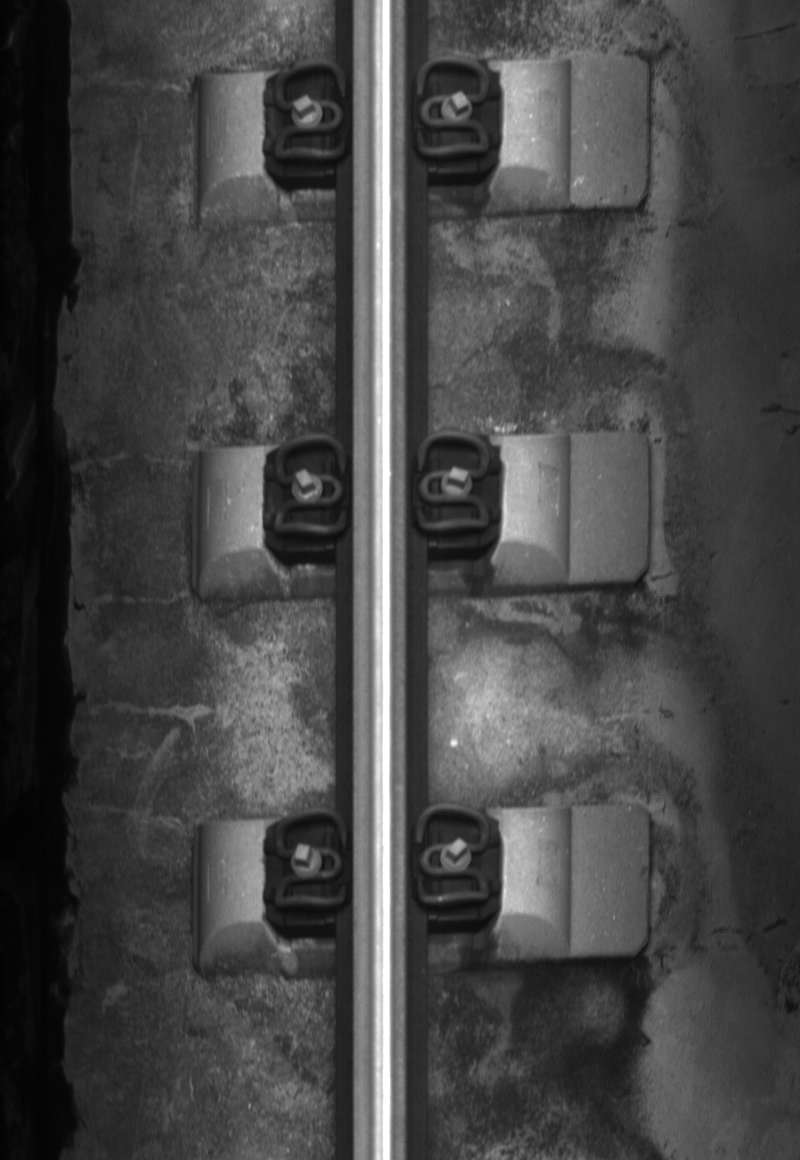l_faster: (268, 804, 352, 919), (268, 55, 352, 168), (267, 430, 352, 541)
r_faster: (407, 798, 497, 913), (411, 428, 494, 537), (412, 54, 494, 162)
